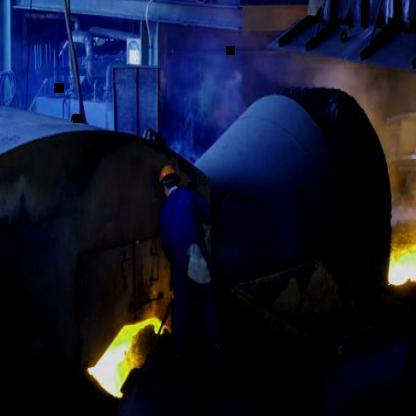helmet: (156, 161, 182, 192)
